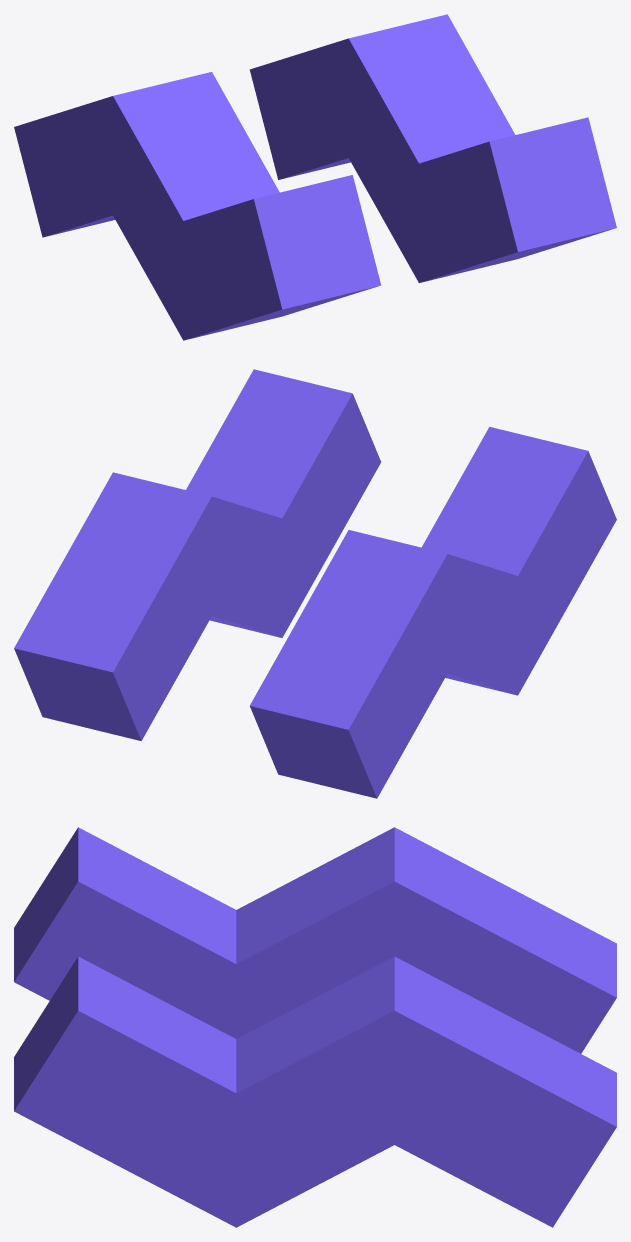
Rendered from ElectricBurstA.fbx.
3 renders of one model, top to bottom at view 1: azimuth 30°, elevation 25°; view 2: azimuth 150°, elevation 25°; view 3: azimuth 270°, elevation 25°, orthographic. The views are drawn at different scales.
Visible parts, largest first — view 1: Cube.003, Cube.006; view 2: Cube.003, Cube.006; view 3: Cube.003, Cube.006.
Part boxes in pixels (x1,y1,x2,y2): Cube.003: (249,14,616,282); Cube.006: (14,72,381,340); Cube.003: (14,369,380,741); Cube.006: (250,426,616,798); Cube.003: (14,956,616,1227); Cube.006: (14,827,616,1053).
Bounding box in the file's own units: 142 × 78.37 × 197.
